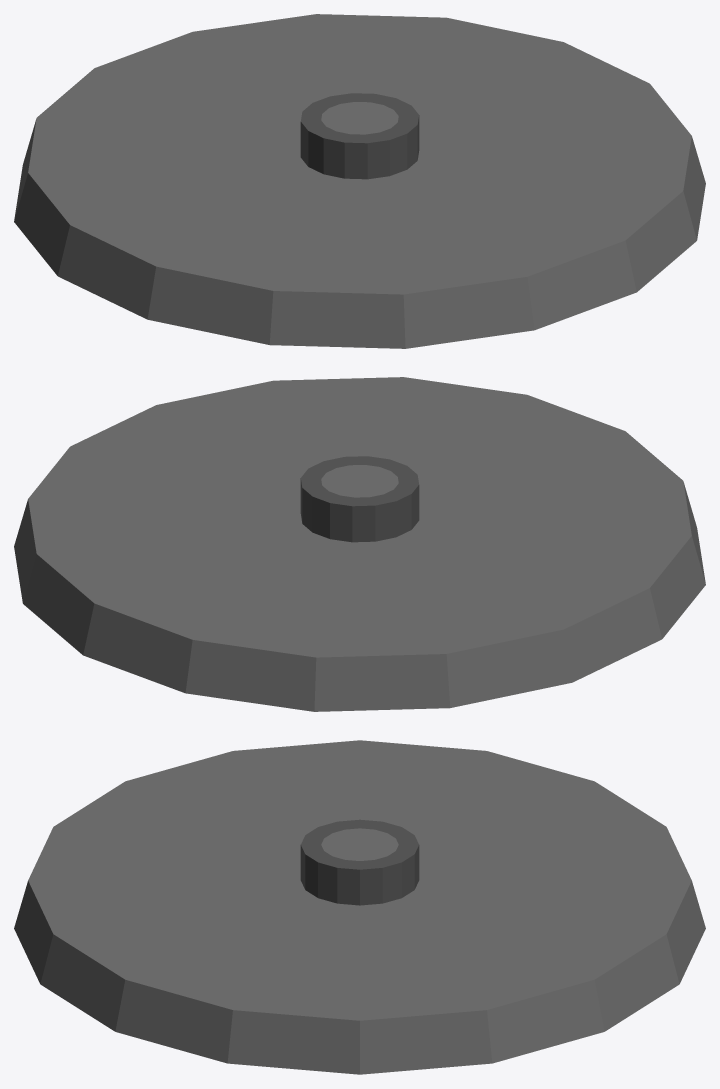
Rendered from Kettle1_C1_02.fbx.
The picture shows the model from 3 angles, top to bottom: view 1: azimuth 30°, elevation 25°; view 2: azimuth 150°, elevation 25°; view 3: azimuth 270°, elevation 25°; orthographic projection.
Parts seen in each view (by area): view 1: Kettle1_C1_02; view 2: Kettle1_C1_02; view 3: Kettle1_C1_02.
Part boxes in pixels (x1,y1,x2,y2): Kettle1_C1_02: (14, 14, 705, 348); Kettle1_C1_02: (14, 377, 705, 711); Kettle1_C1_02: (14, 740, 705, 1074).
Bounding box in the file's own units: 26.65 × 3.56 × 26.65.
